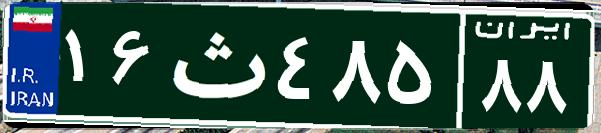1: (57, 26, 110, 107)
4: (273, 28, 330, 110)
5: (385, 28, 445, 110)
6: (110, 28, 158, 105)
8: (330, 28, 385, 110), (475, 38, 525, 113), (525, 38, 570, 115)
ث: (158, 15, 273, 115)
